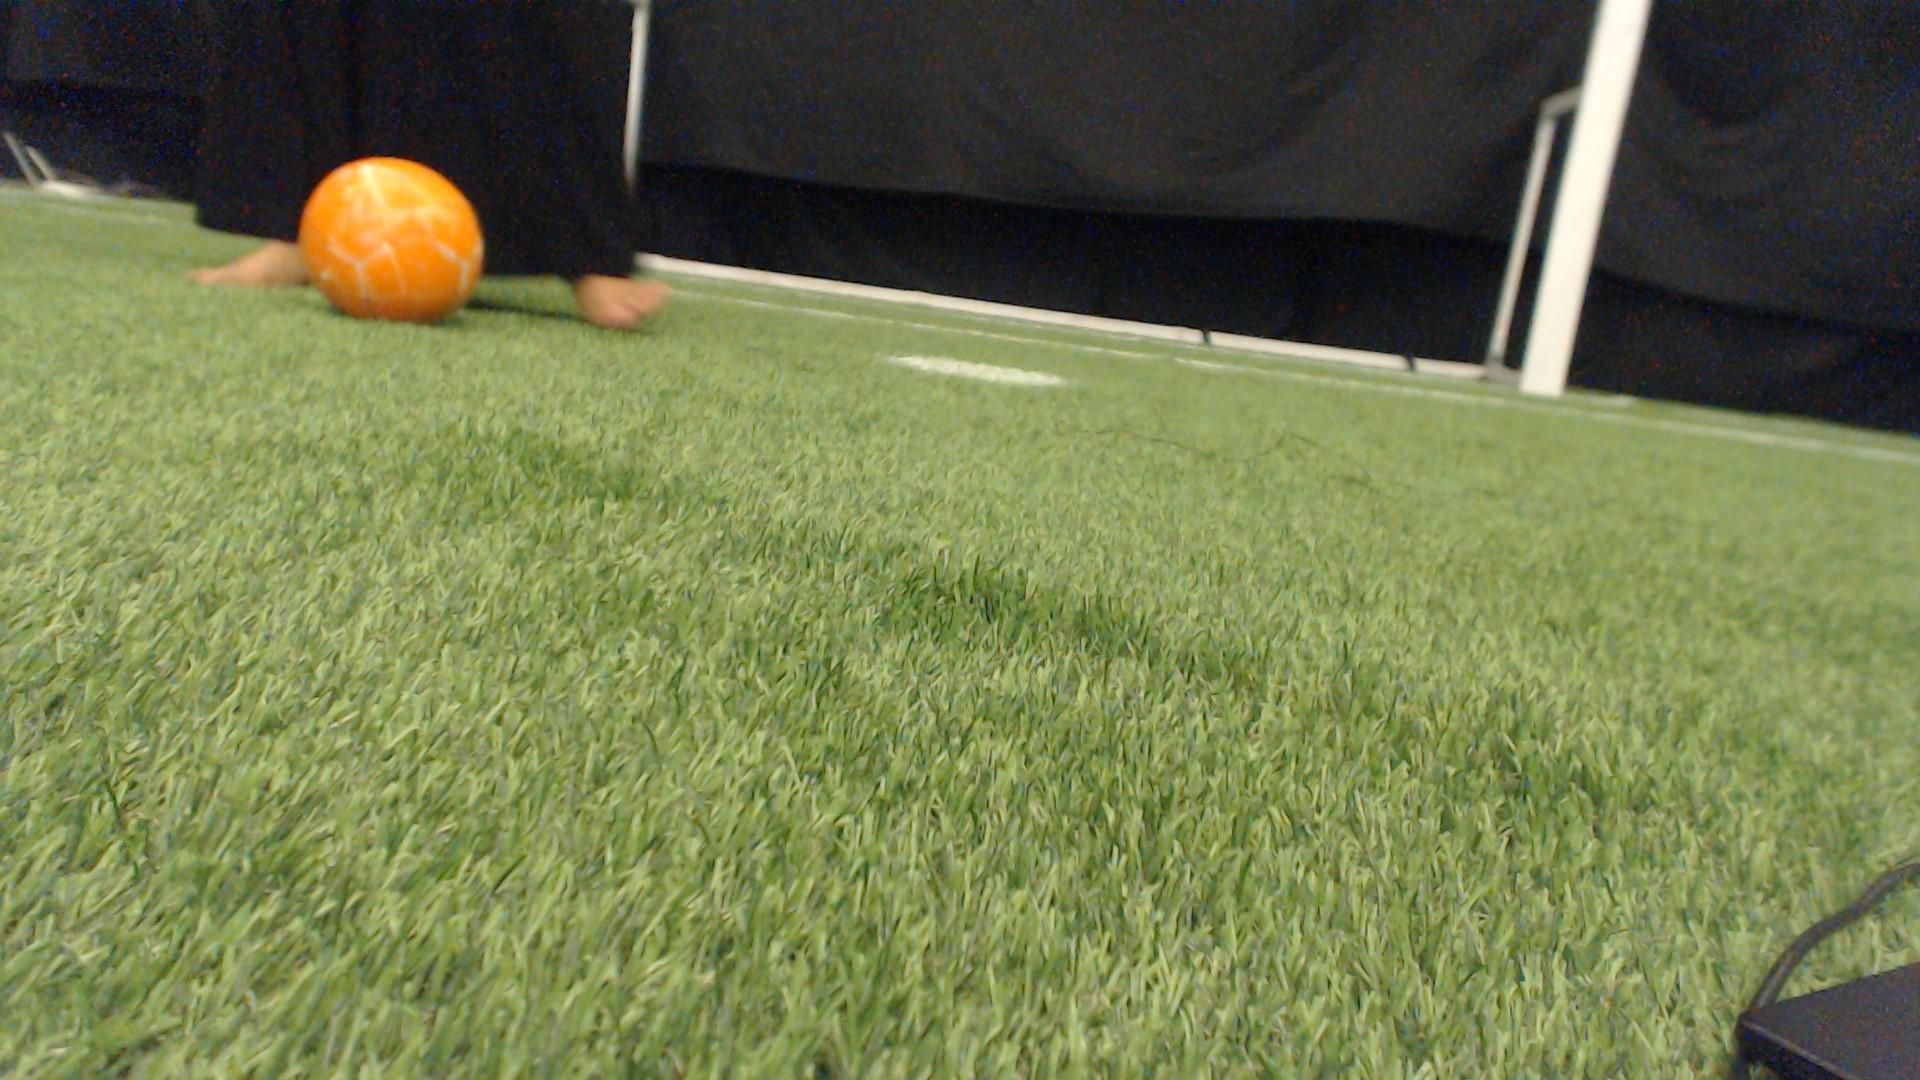bola: (281, 145, 502, 327)
